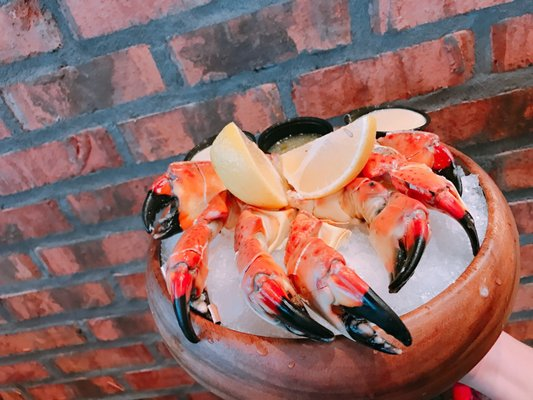sushi: (137, 127, 522, 400)
